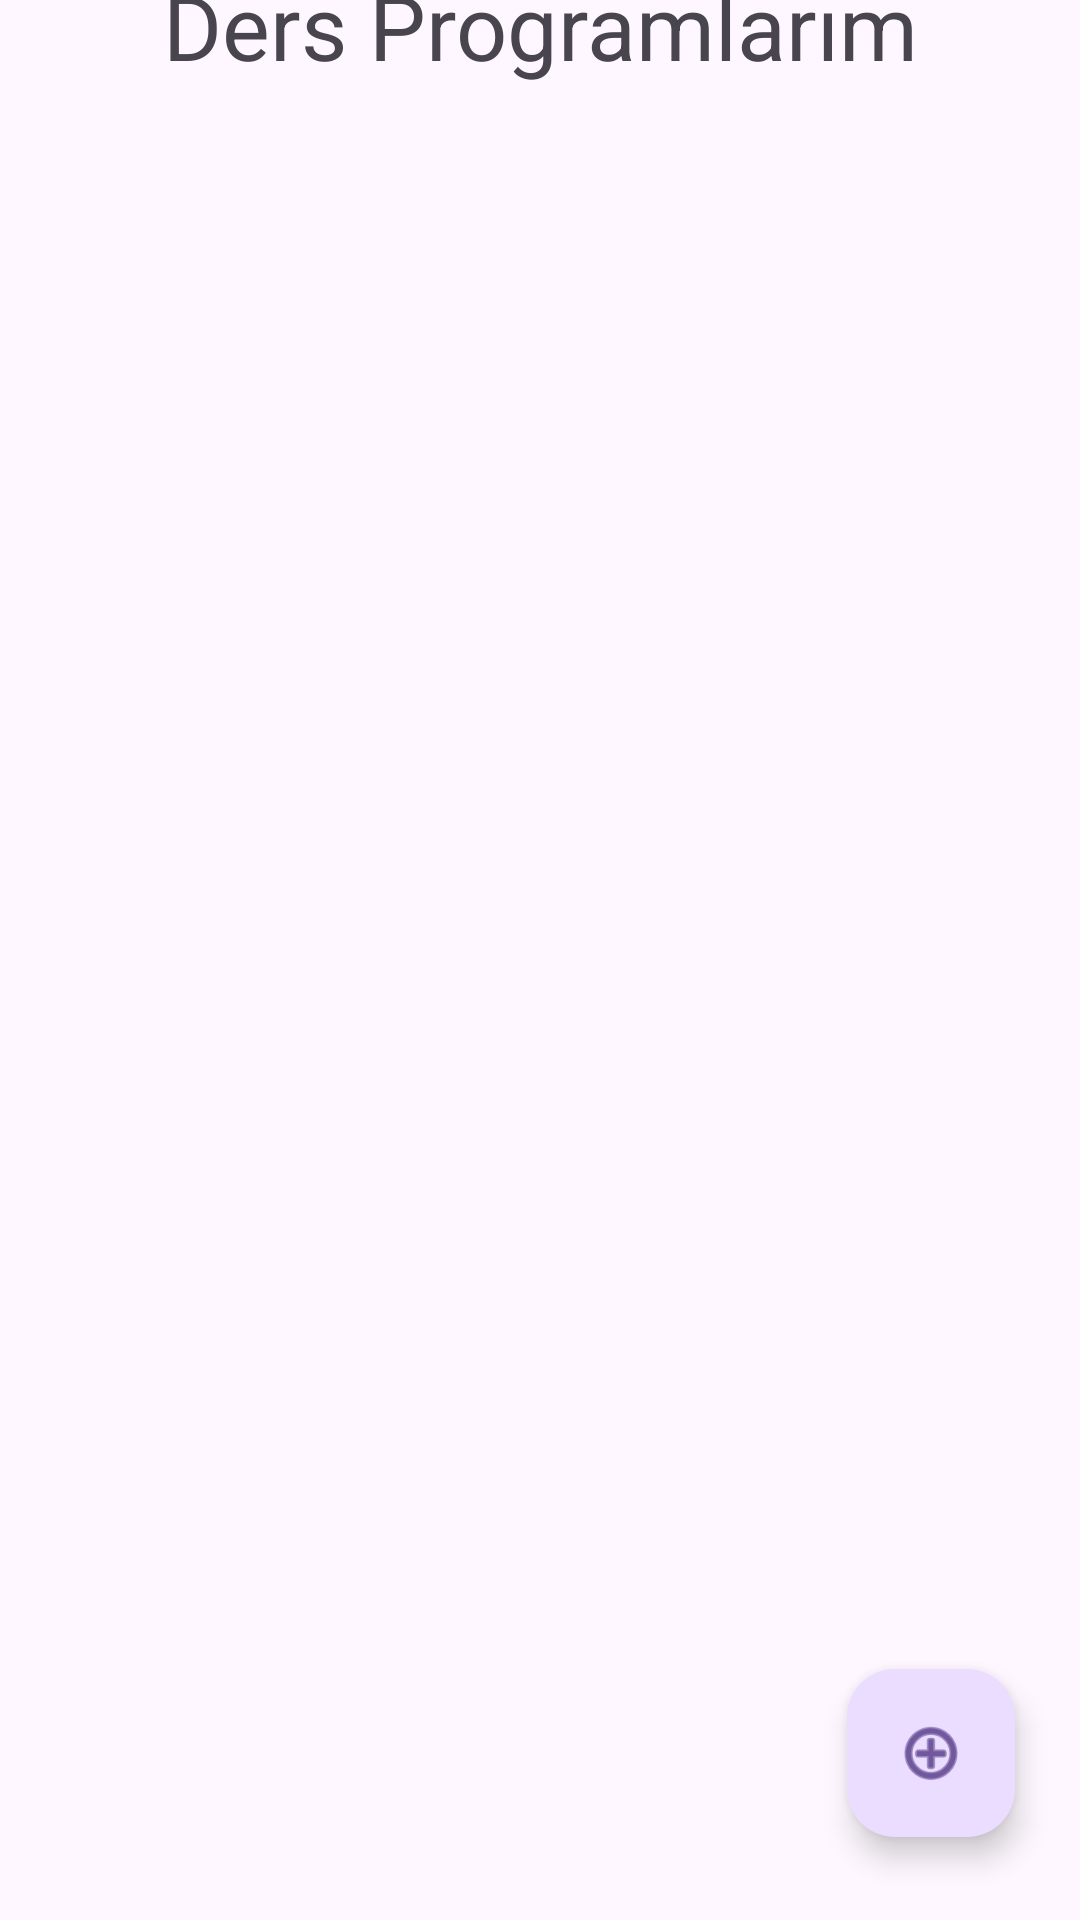

Named icons in this screenshot (1080*1920) and their bounding boxes, [x1=x1, y1=y1, x2=x2, y2=y2]:
add: [x1=847, y1=1669, x2=1015, y2=1837]
